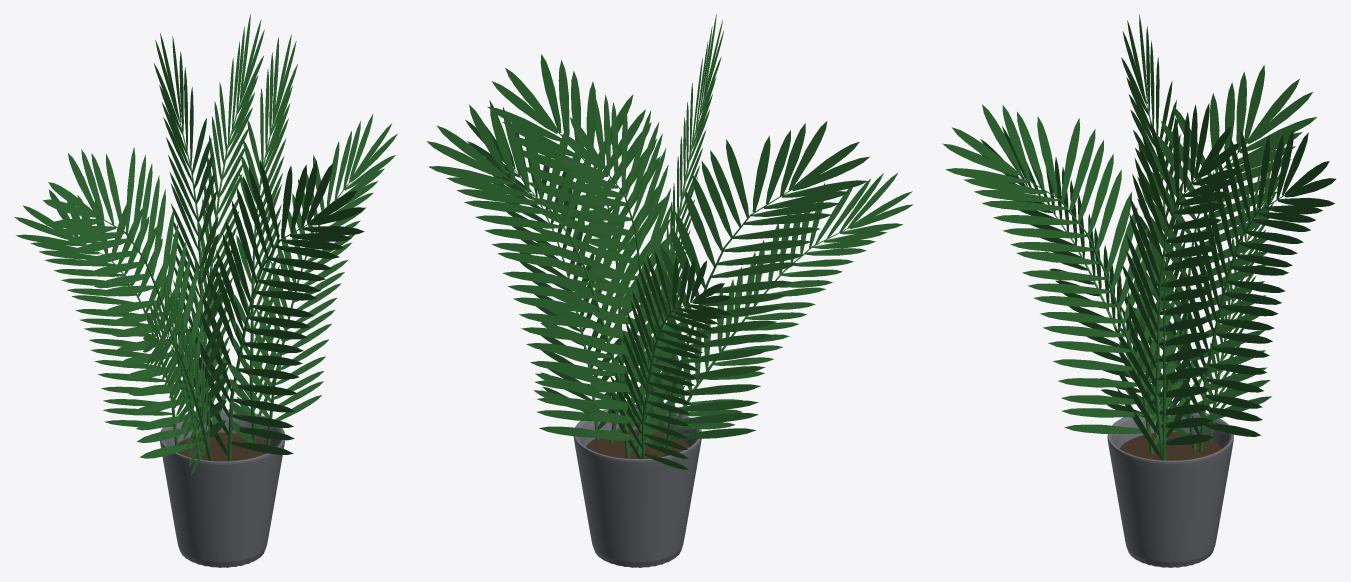
The model's file is plant.fbx.
The picture shows the model from 3 angles, left to right: view 1: azimuth 30°, elevation 25°; view 2: azimuth 150°, elevation 25°; view 3: azimuth 270°, elevation 25°; orthographic projection. The views are drawn at different scales.
Visible parts, largest first — view 1: kasvi; view 2: kasvi; view 3: kasvi.
Part boxes in pixels (x1,y1,x2,y2): kasvi: (14,14,397,567); kasvi: (426,14,913,567); kasvi: (942,14,1336,567).
Bounding box in the file's own units: 102 × 125 × 92.05.
